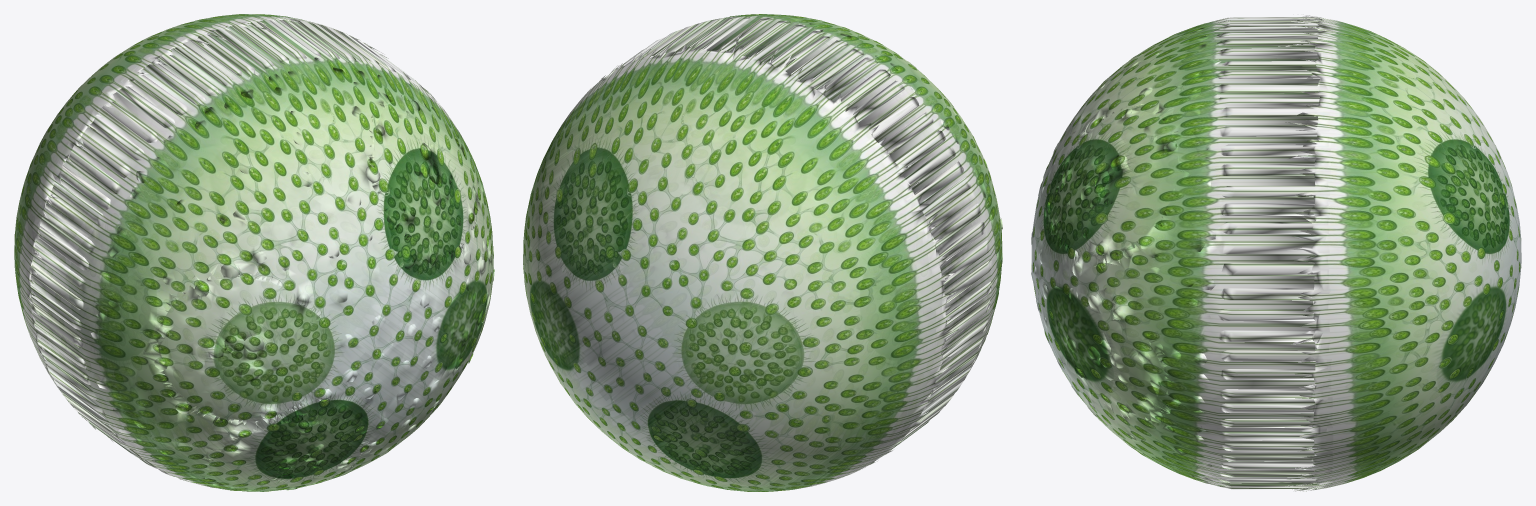
Rendered from volvox.glb.
The picture shows the model from 3 angles, left to right: view 1: azimuth 30°, elevation 25°; view 2: azimuth 150°, elevation 25°; view 3: azimuth 270°, elevation 25°; orthographic projection.
Parts seen in each view (by area): view 1: tripo_node_9c08c3f4-a496-4386-9784-0d79da2fadca; view 2: tripo_node_9c08c3f4-a496-4386-9784-0d79da2fadca; view 3: tripo_node_9c08c3f4-a496-4386-9784-0d79da2fadca.
Boxes of the visible parts, x1,y1,x2,y2 form: tripo_node_9c08c3f4-a496-4386-9784-0d79da2fadca: (14, 14, 494, 491); tripo_node_9c08c3f4-a496-4386-9784-0d79da2fadca: (523, 14, 1002, 491); tripo_node_9c08c3f4-a496-4386-9784-0d79da2fadca: (1031, 14, 1521, 491).
Bounding box in the file's own units: 0.9747 × 0.9735 × 0.9998.
1 material, 1 textured.
